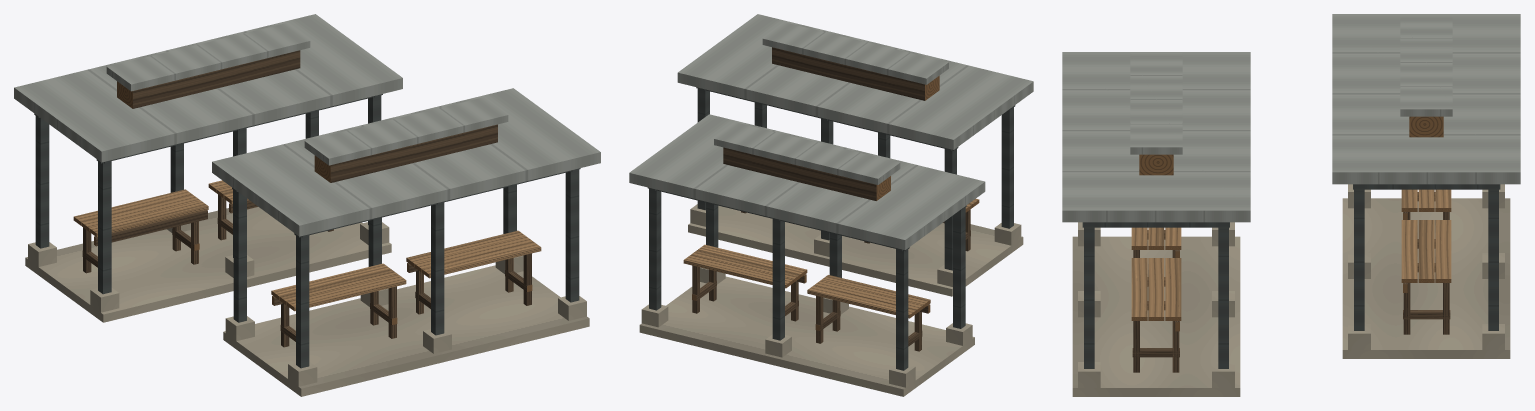
Rendered from rabat.glb.
3 renders of one model, left to right at view 1: azimuth 30°, elevation 25°; view 2: azimuth 150°, elevation 25°; view 3: azimuth 270°, elevation 25°, orthographic. The views are drawn at different scales.
Visible parts, largest first — view 1: rabat; view 2: rabat; view 3: rabat.
Boxes of the visible parts, x1,y1,x2,y2 form: rabat: (14,14,600,396); rabat: (629,14,1033,396); rabat: (1062,14,1520,396).
Bounding box in the file's own units: 4.77 × 2.5 × 4.7.
1 material, 1 textured.
